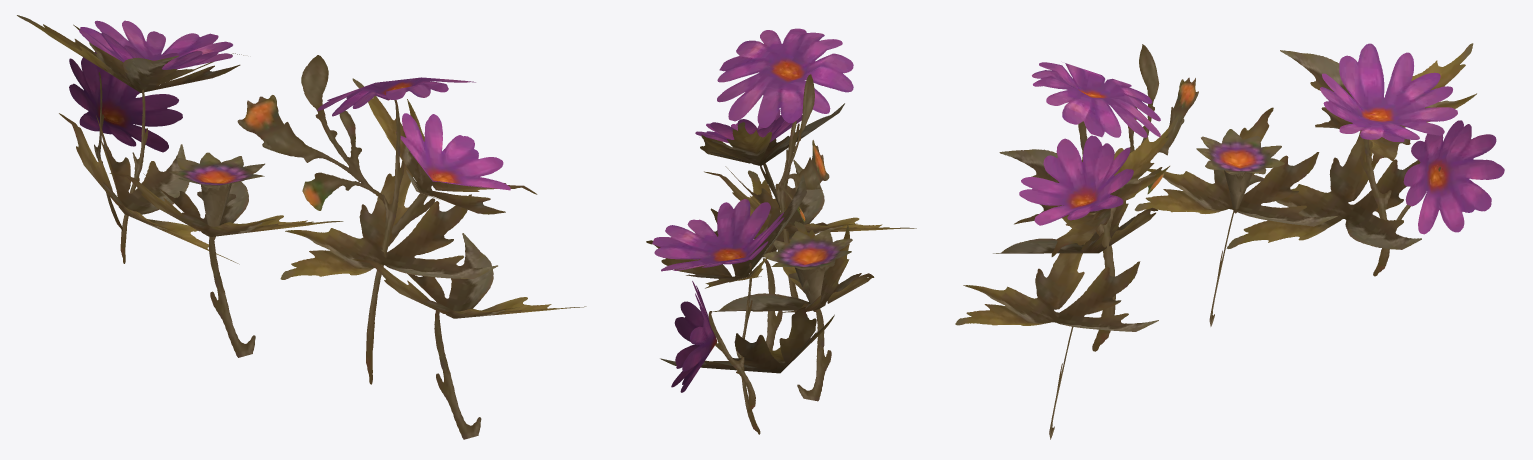
3 renders of one model, left to right at view 1: azimuth 30°, elevation 25°; view 2: azimuth 150°, elevation 25°; view 3: azimuth 270°, elevation 25°, orthographic. The views are drawn at different scales.
Bounding box in the file's own units: 1.28 × 1.34 × 1.97.
Materials: 1 (1 with a texture image).
